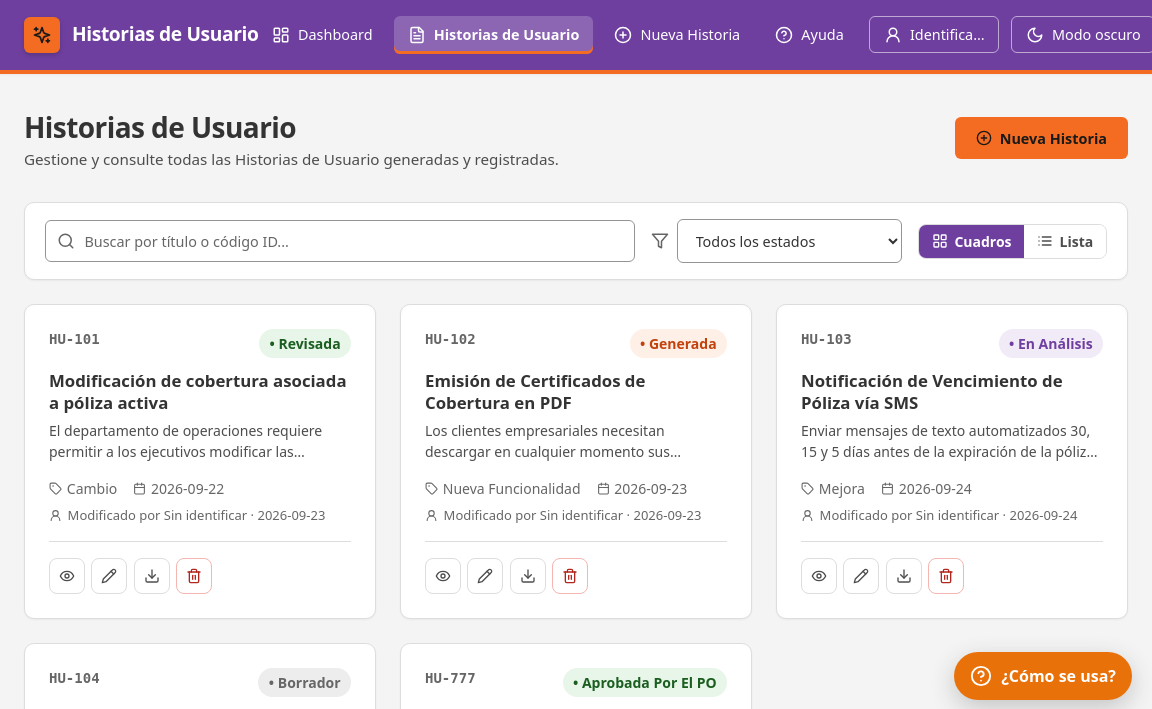
Test: eliminar historias › conserva la historia si se cancela o se pulsa Escape
Click the button named "Eliminar historia HU-101" at [194, 576], box [176,558,212,594]
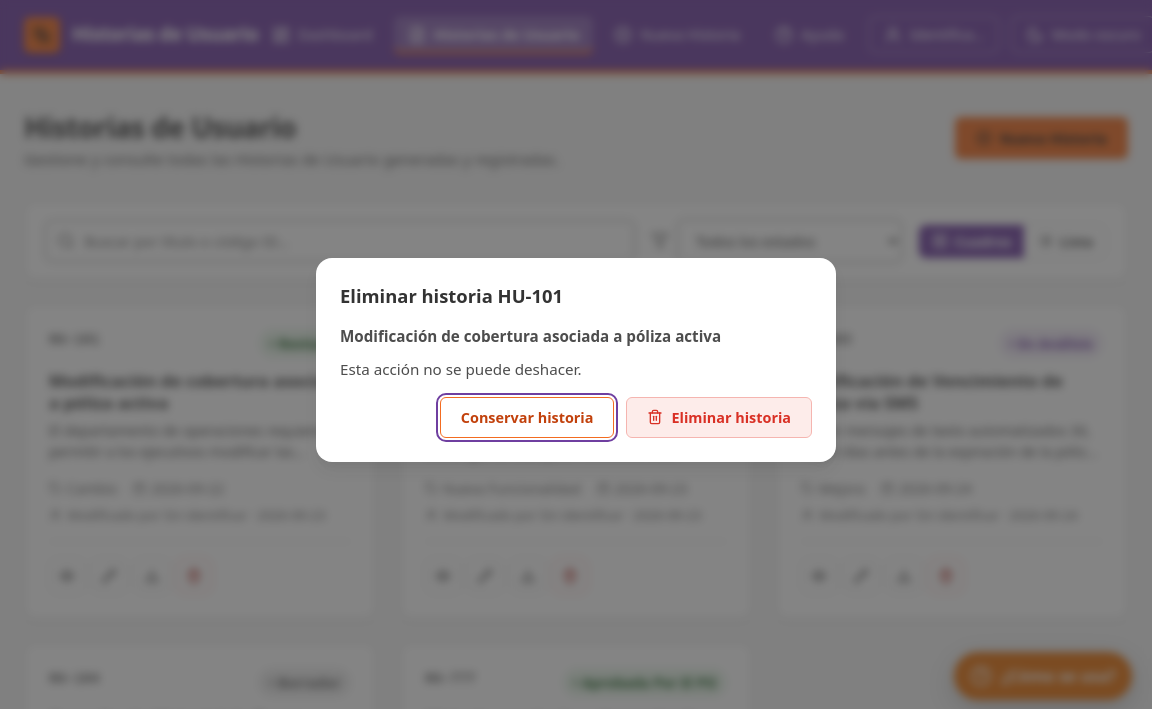
Click the button "Conservar historia" at [527, 417], box [440,396,614,438]
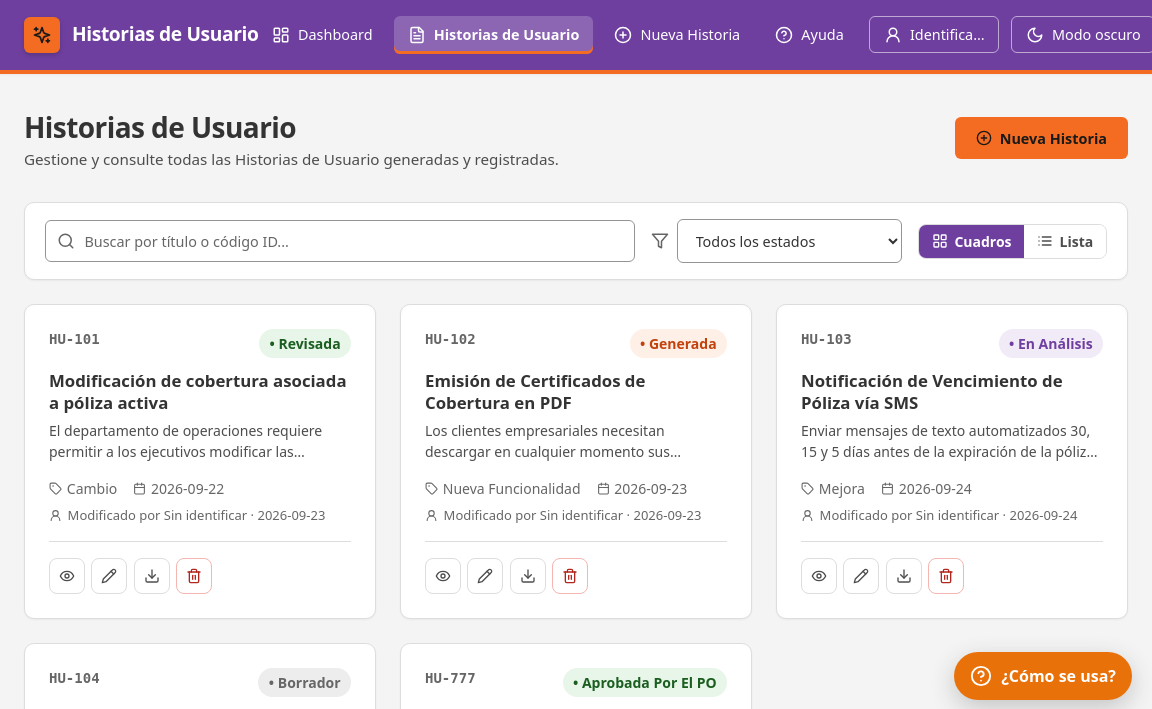
Expected: the dialog is gone
Click the button named "Eliminar historia HU-101" at [194, 576], box [176,558,212,594]
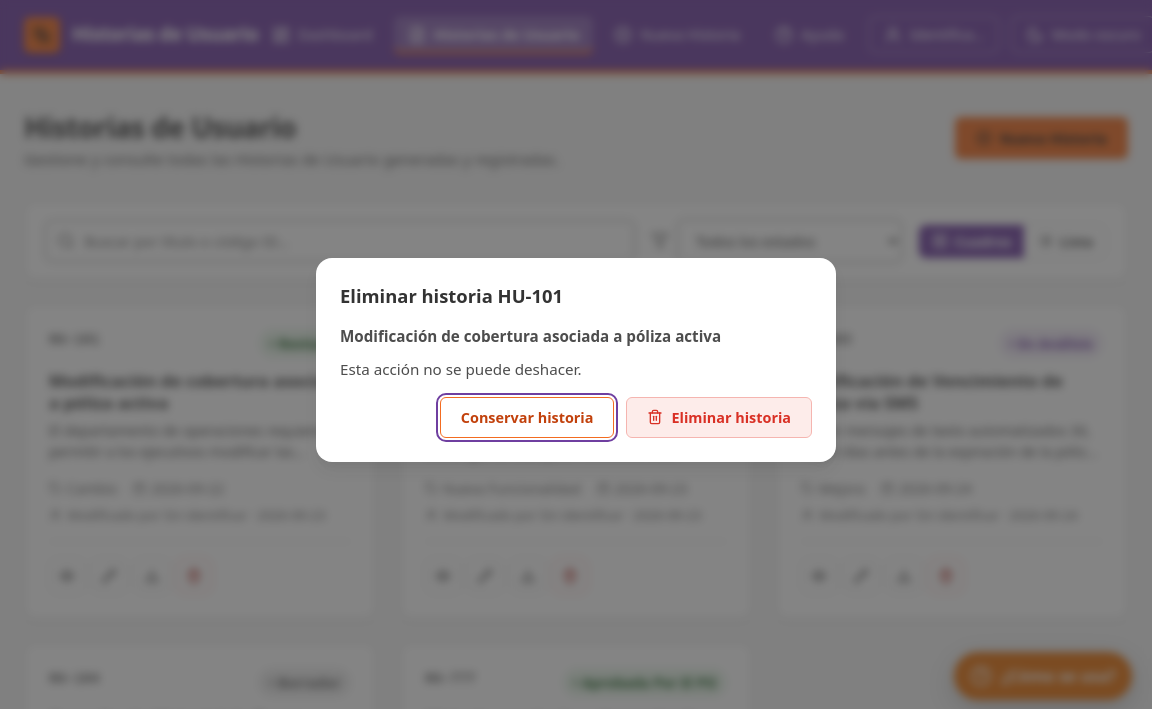
Press Escape
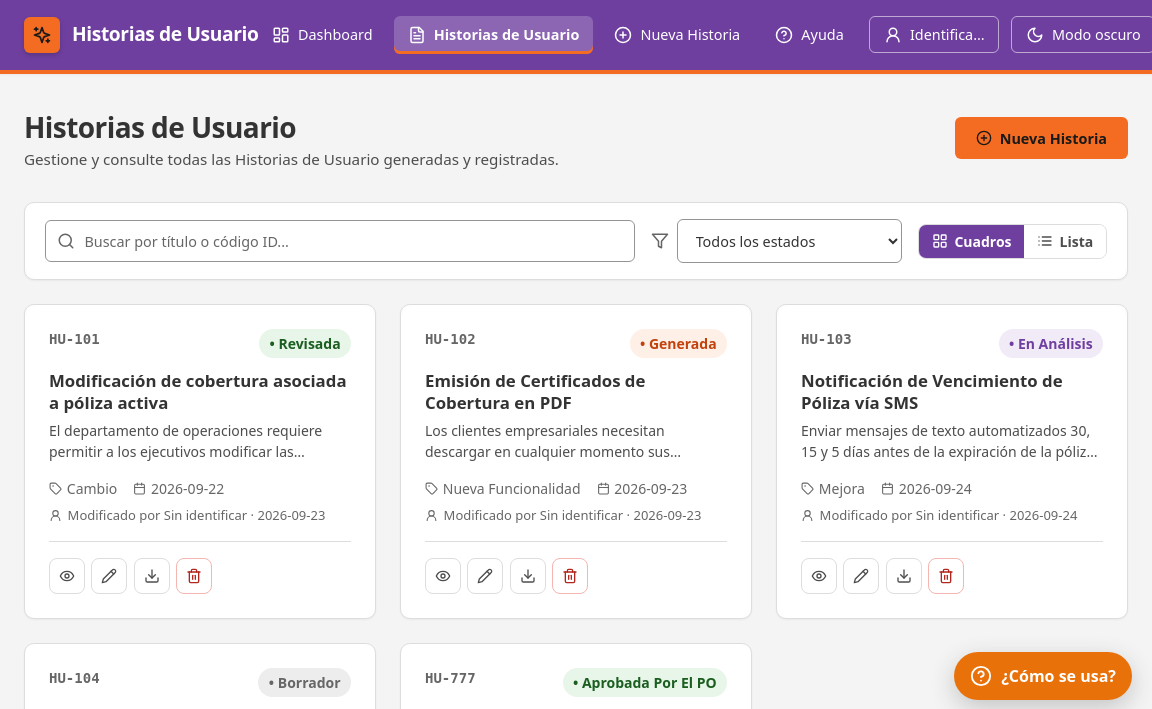
Expected: the text "HU-101" is shown, [49,329,100,350]
Expected: the dialog is gone
